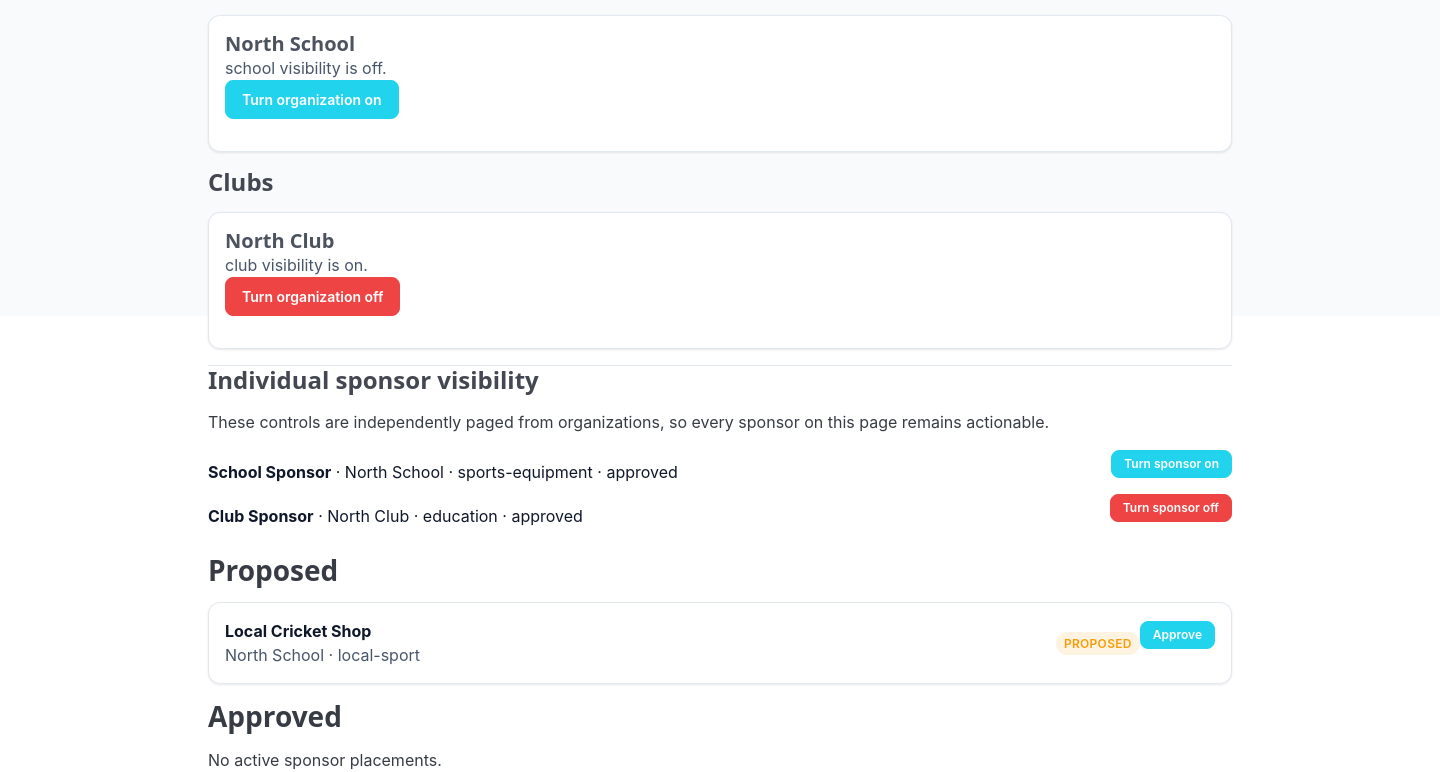
Test: PlatformSponsorPlacementsView › lists organization labels, approves a proposal, then takes it down immediately
This screenshot has width=1440, height=772.
(page scrolled)
Click the button "Approve" at x=1177, y=635, box 1140,621 -> 1215,649
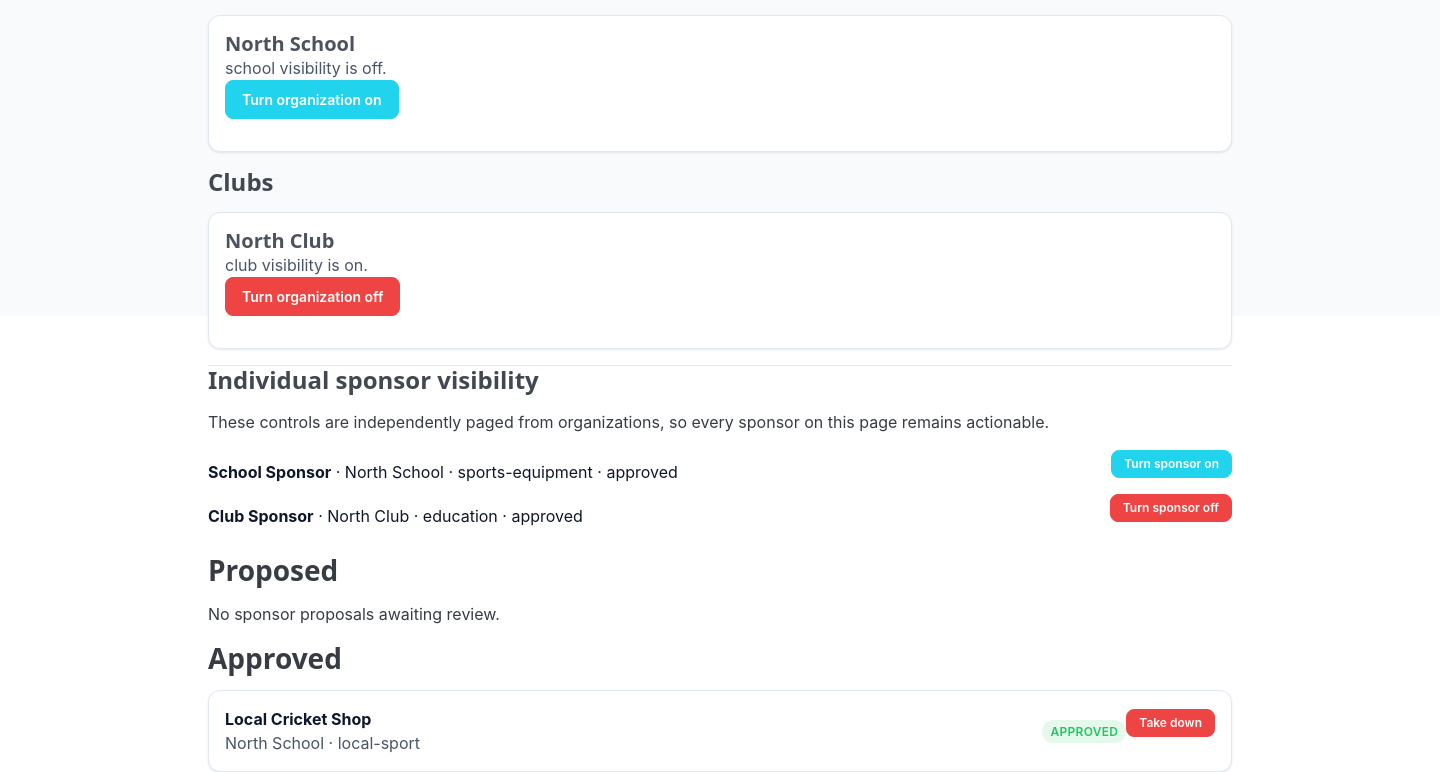
Expected: the text "approved" is shown, 331,462 -> 678,482
Click the button "Take down" at x=1171, y=723, box 1126,709 -> 1215,737
(page scrolled)
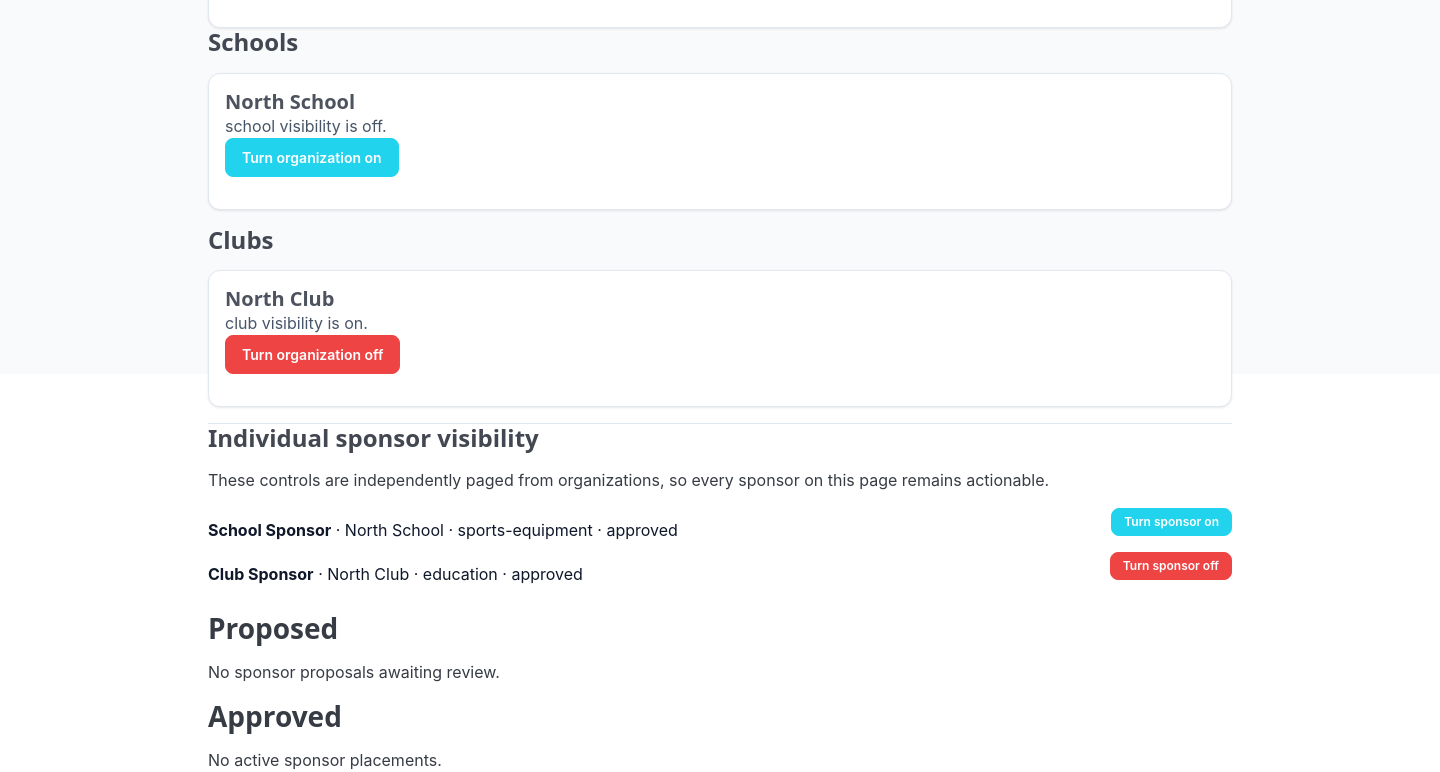
Now the text "No active sponsor placements." is shown, box 208,750 -> 442,770
